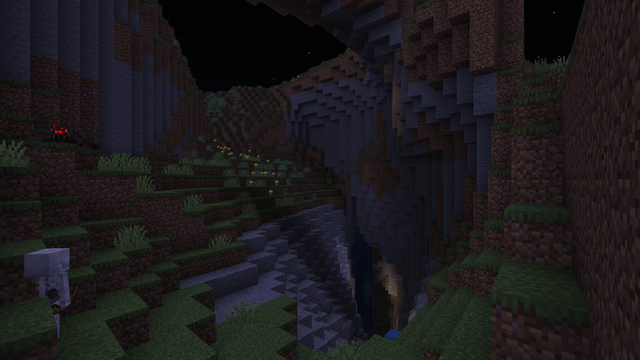araignees: (42, 122, 91, 150)
squelettes: (27, 246, 67, 340)
